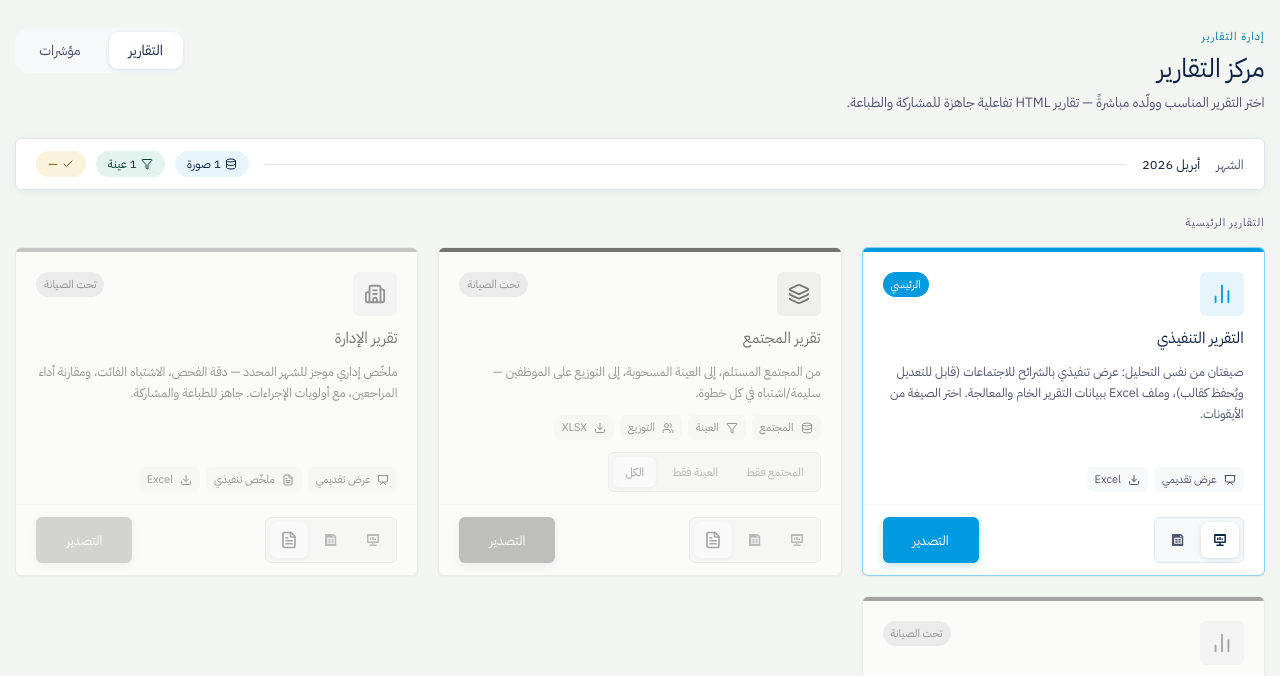
Test: Reports month-summary chips — lightweight manifest read, no employee-files read (§L) › shows the studied-count chip as '—' until the KPI dashboard builds its model, then reflects model.sample.studied
The image size is (1280, 676).
Expected: the text "1 صورة" is shown, [175,151,249,177]
Expected: the element with class "rh-chip-ans" reads "—", [48,155,58,173]
Click the tab "مؤشرات". click: {"x": 60, "y": 51}
box: [19,32,101,69]
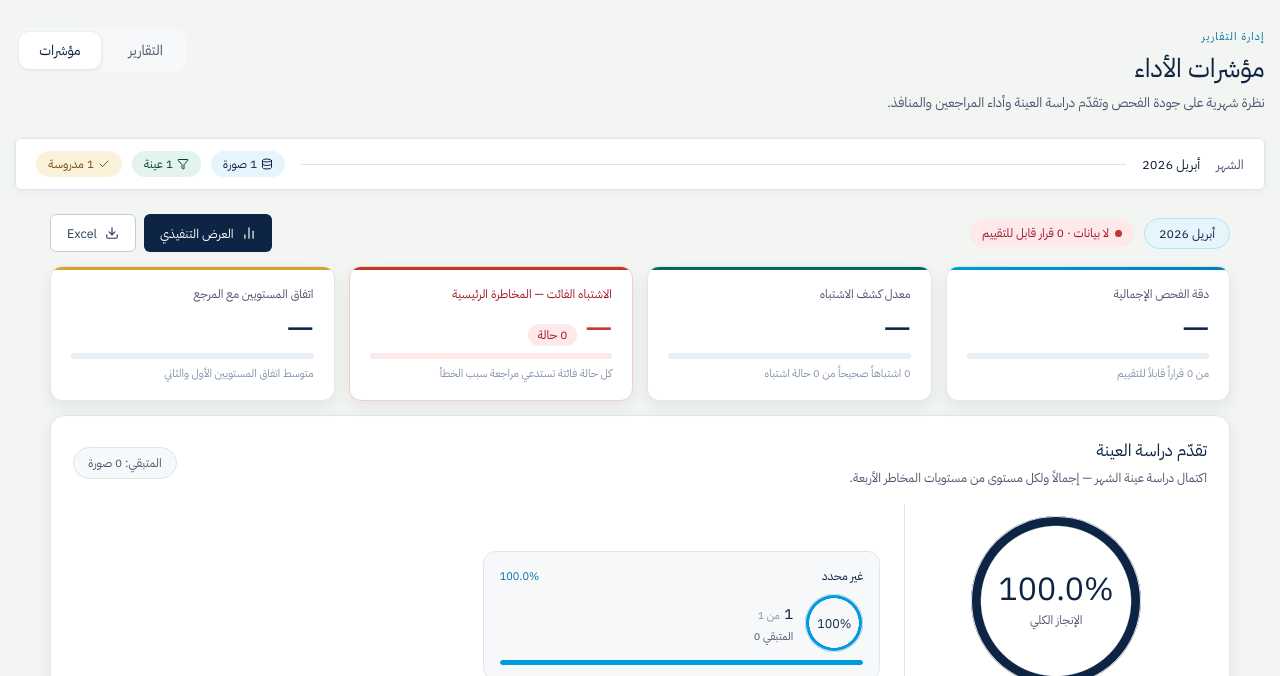
Result: the element with class "rh-chip-ans" reads "1 مدروسة" at [48,155,94,173]
